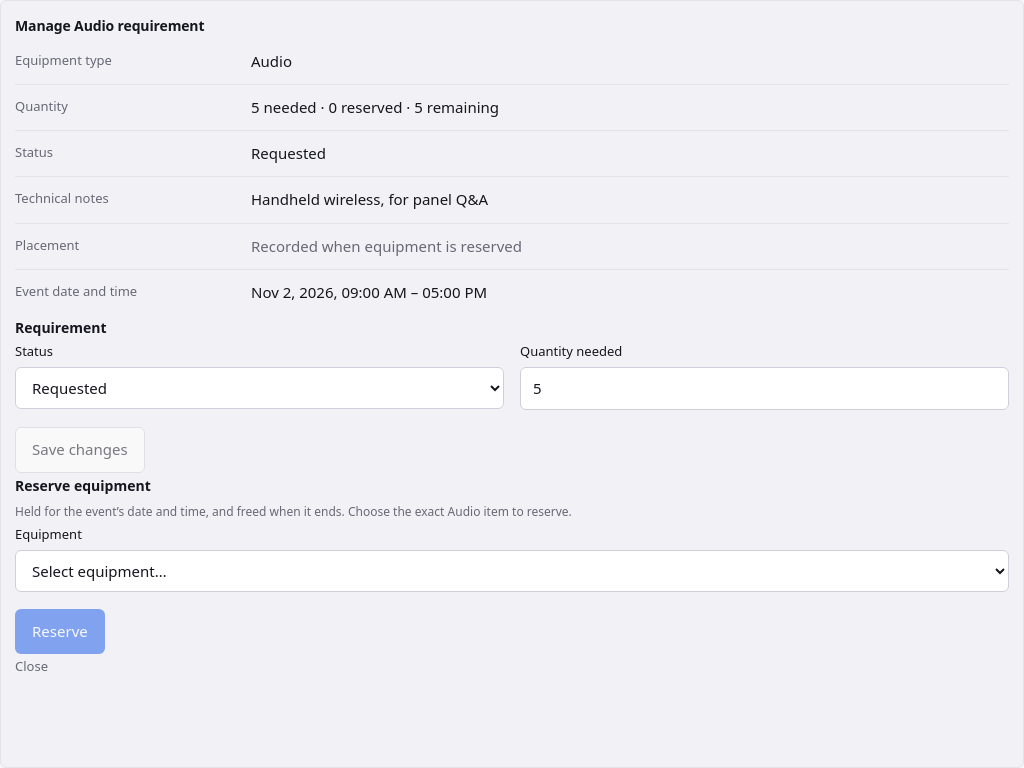
saving the status and quantity › does not send a quantity below one
Replace the text in the number field labelled "Quantity needed" with "0" at x=764, y=389, box [520,367,1009,410]
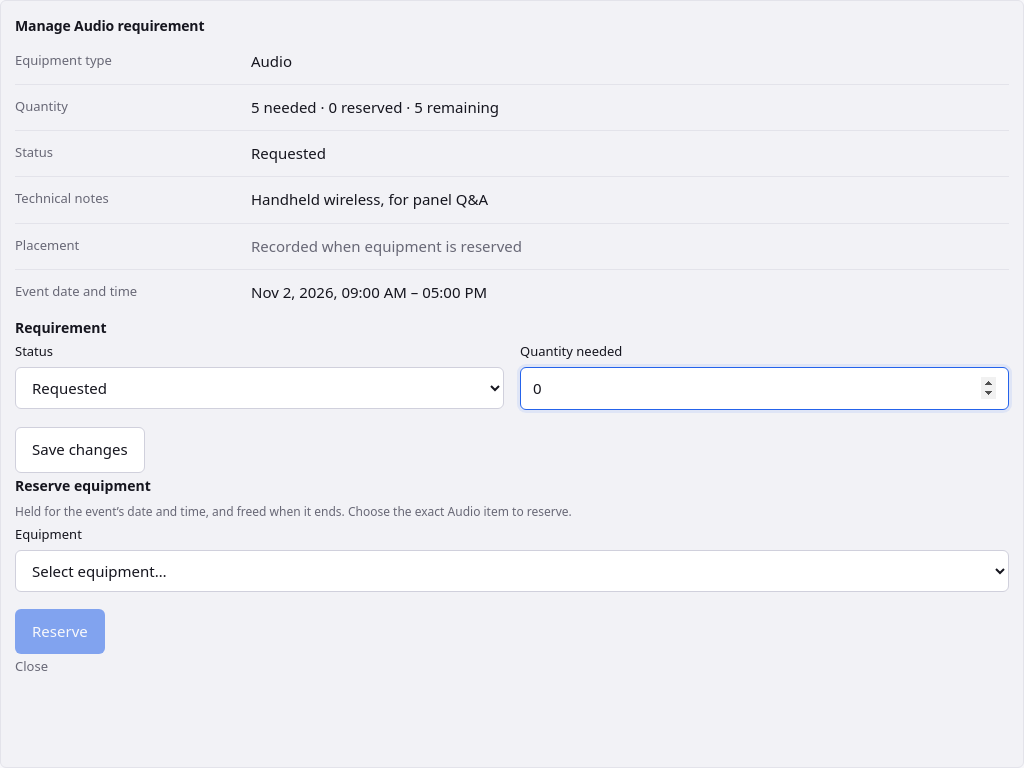
Click the button "Save changes".
click(80, 450)  # box [15,427,145,473]
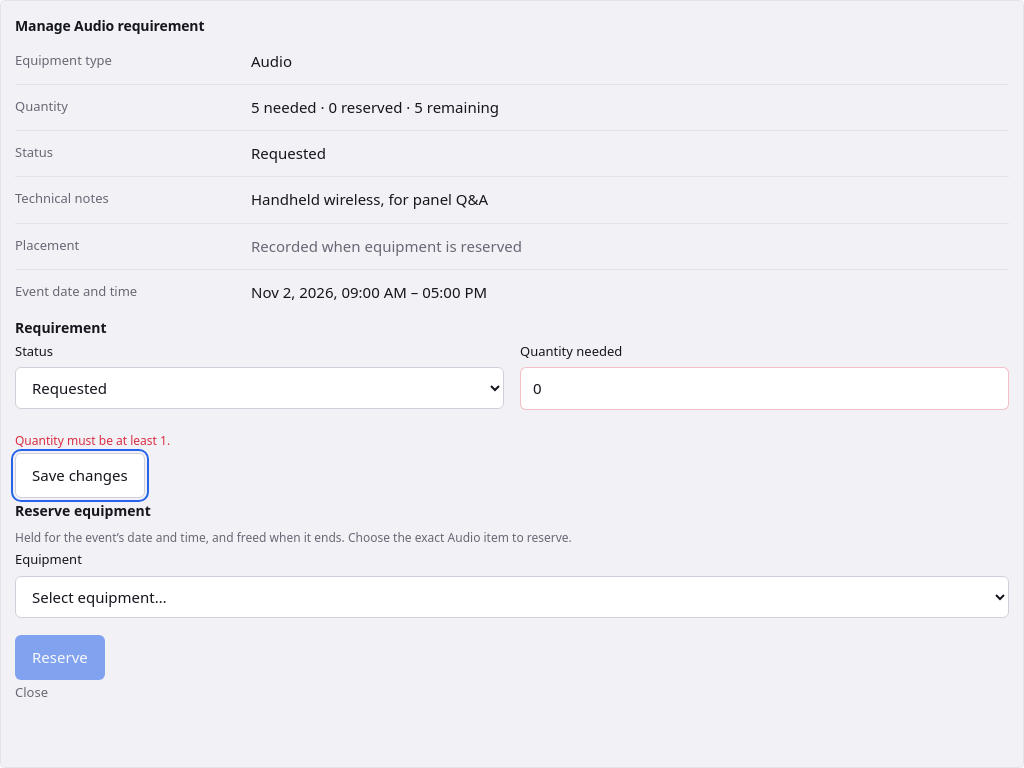
Result: the text "Quantity must be at least 1." is shown at [15,432,170,449]
